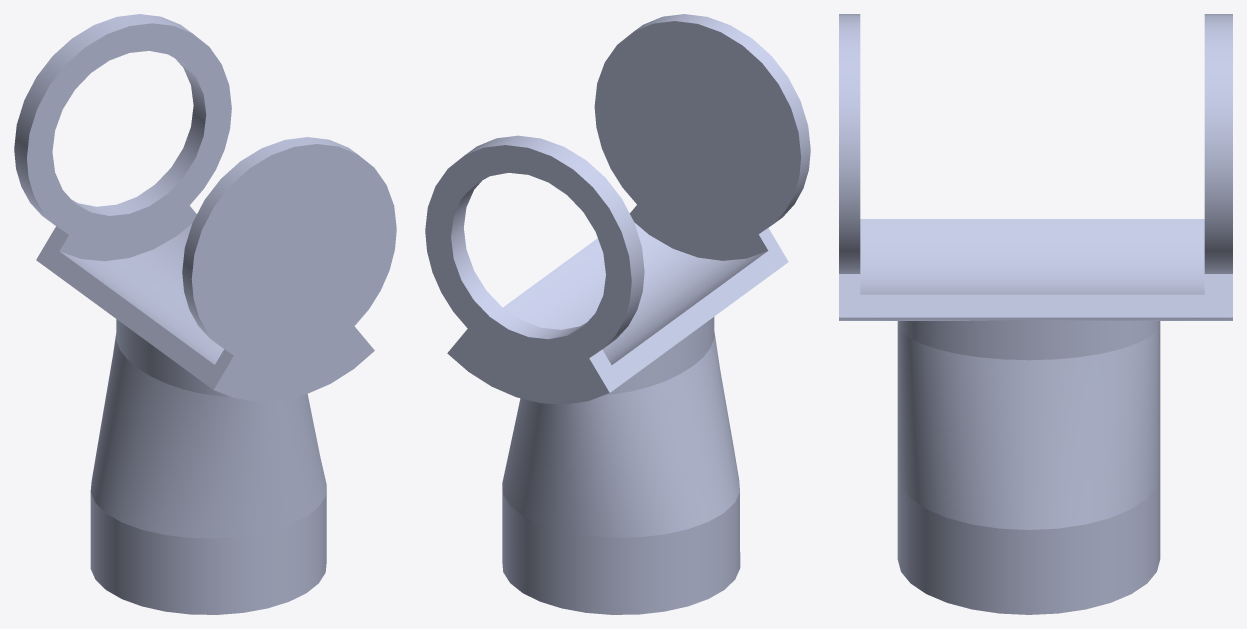
3 renders of one model, left to right at view 1: azimuth 30°, elevation 25°; view 2: azimuth 150°, elevation 25°; view 3: azimuth 270°, elevation 25°, orthographic. The views are drawn at different scales.
Visible parts, largest first — view 1: FBXASC195FBXASC135FBXASC195FBXASC144FBXASC194FBXASC179FBXASC; view 2: FBXASC195FBXASC135FBXASC195FBXASC144FBXASC194FBXASC179FBXASC; view 3: FBXASC195FBXASC135FBXASC195FBXASC144FBXASC194FBXASC179FBXASC.
Part boxes in pixels (x1,y1,x2,y2): FBXASC195FBXASC135FBXASC195FBXASC144FBXASC194FBXASC179FBXASC: (14, 14, 396, 614); FBXASC195FBXASC135FBXASC195FBXASC144FBXASC194FBXASC179FBXASC: (425, 14, 810, 614); FBXASC195FBXASC135FBXASC195FBXASC144FBXASC194FBXASC179FBXASC: (839, 14, 1232, 614).
Bounding box in the file's own units: 0.056 × 0.084 × 0.1255.
